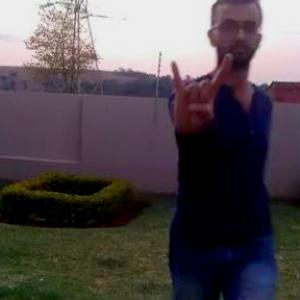takeoff-hand: (167, 47, 233, 136)
